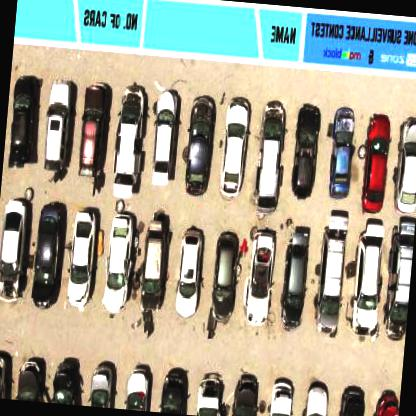car: (350, 216, 386, 338), (110, 85, 146, 204), (314, 209, 348, 333), (30, 202, 67, 309), (382, 222, 414, 342), (254, 102, 288, 214), (182, 94, 217, 197), (102, 210, 134, 320), (218, 97, 252, 199), (76, 82, 110, 178), (281, 224, 312, 329), (360, 113, 392, 212), (139, 214, 171, 312), (209, 230, 241, 324), (149, 91, 180, 188), (289, 102, 320, 198), (7, 76, 38, 170), (246, 228, 275, 327), (324, 108, 355, 200), (174, 226, 204, 320), (67, 209, 96, 306), (0, 198, 27, 300), (42, 80, 72, 170), (392, 120, 415, 216), (156, 368, 191, 414), (121, 364, 153, 410), (85, 362, 117, 408), (193, 372, 227, 415), (232, 372, 263, 415), (50, 362, 80, 404), (15, 360, 45, 401), (267, 378, 297, 415), (302, 380, 332, 415), (335, 387, 367, 415), (371, 389, 401, 415), (0, 352, 15, 399)
